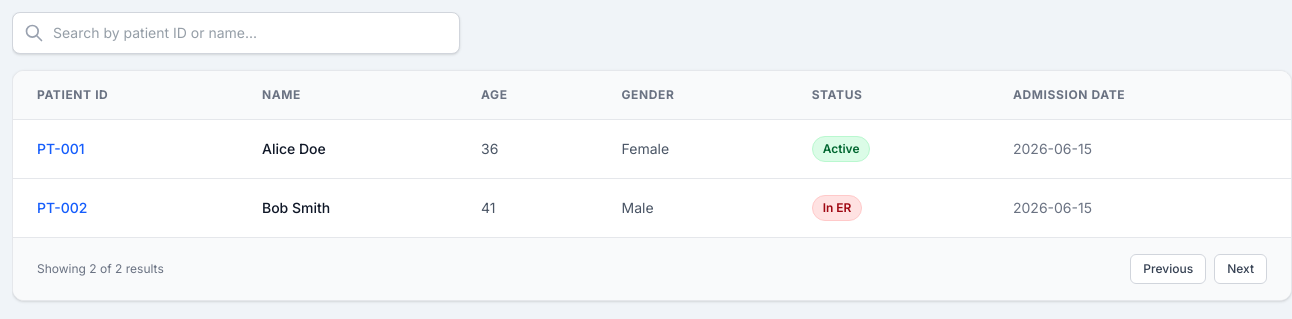
it: PatientTable › filters by name and patient id
This screenshot has width=1292, height=319.
Type "Bob" into the field with placeholder "Search by patient ID or name..." at (236, 33), box top-left (12, 12), bottom-right (460, 54)
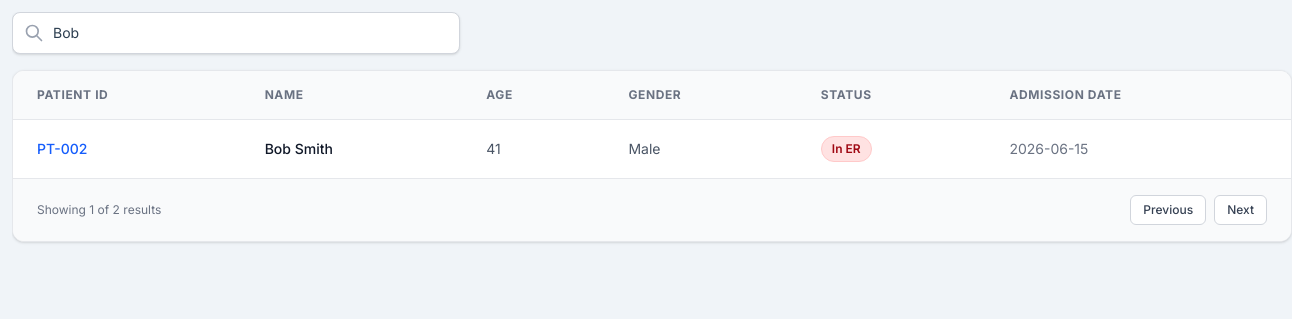
Expected: the text "PT-001" is gone
Replace the text in the field with placeholder "Search by patient ID or name..." with "PT-001" at (236, 33), box top-left (12, 12), bottom-right (460, 54)
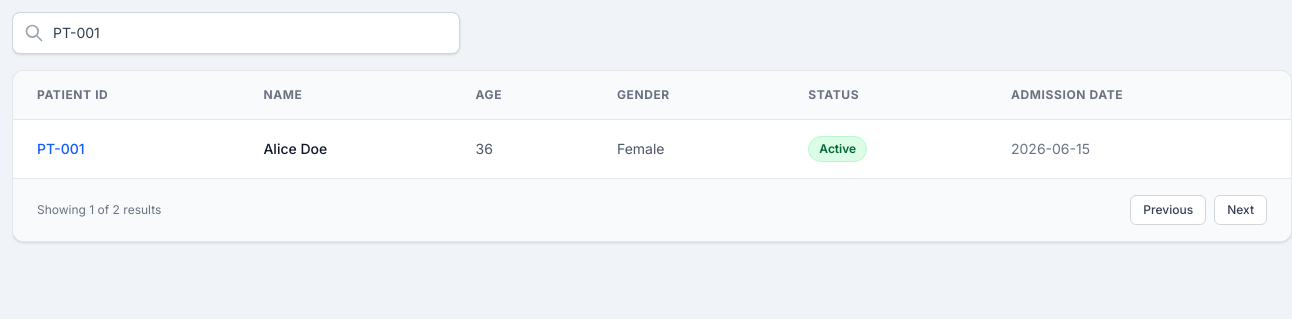
Expected: the text "PT-002" is gone
